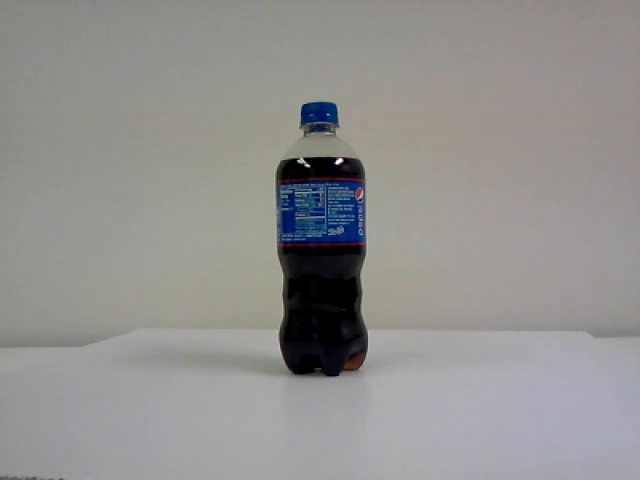botolplastik: (276, 103, 366, 376)
